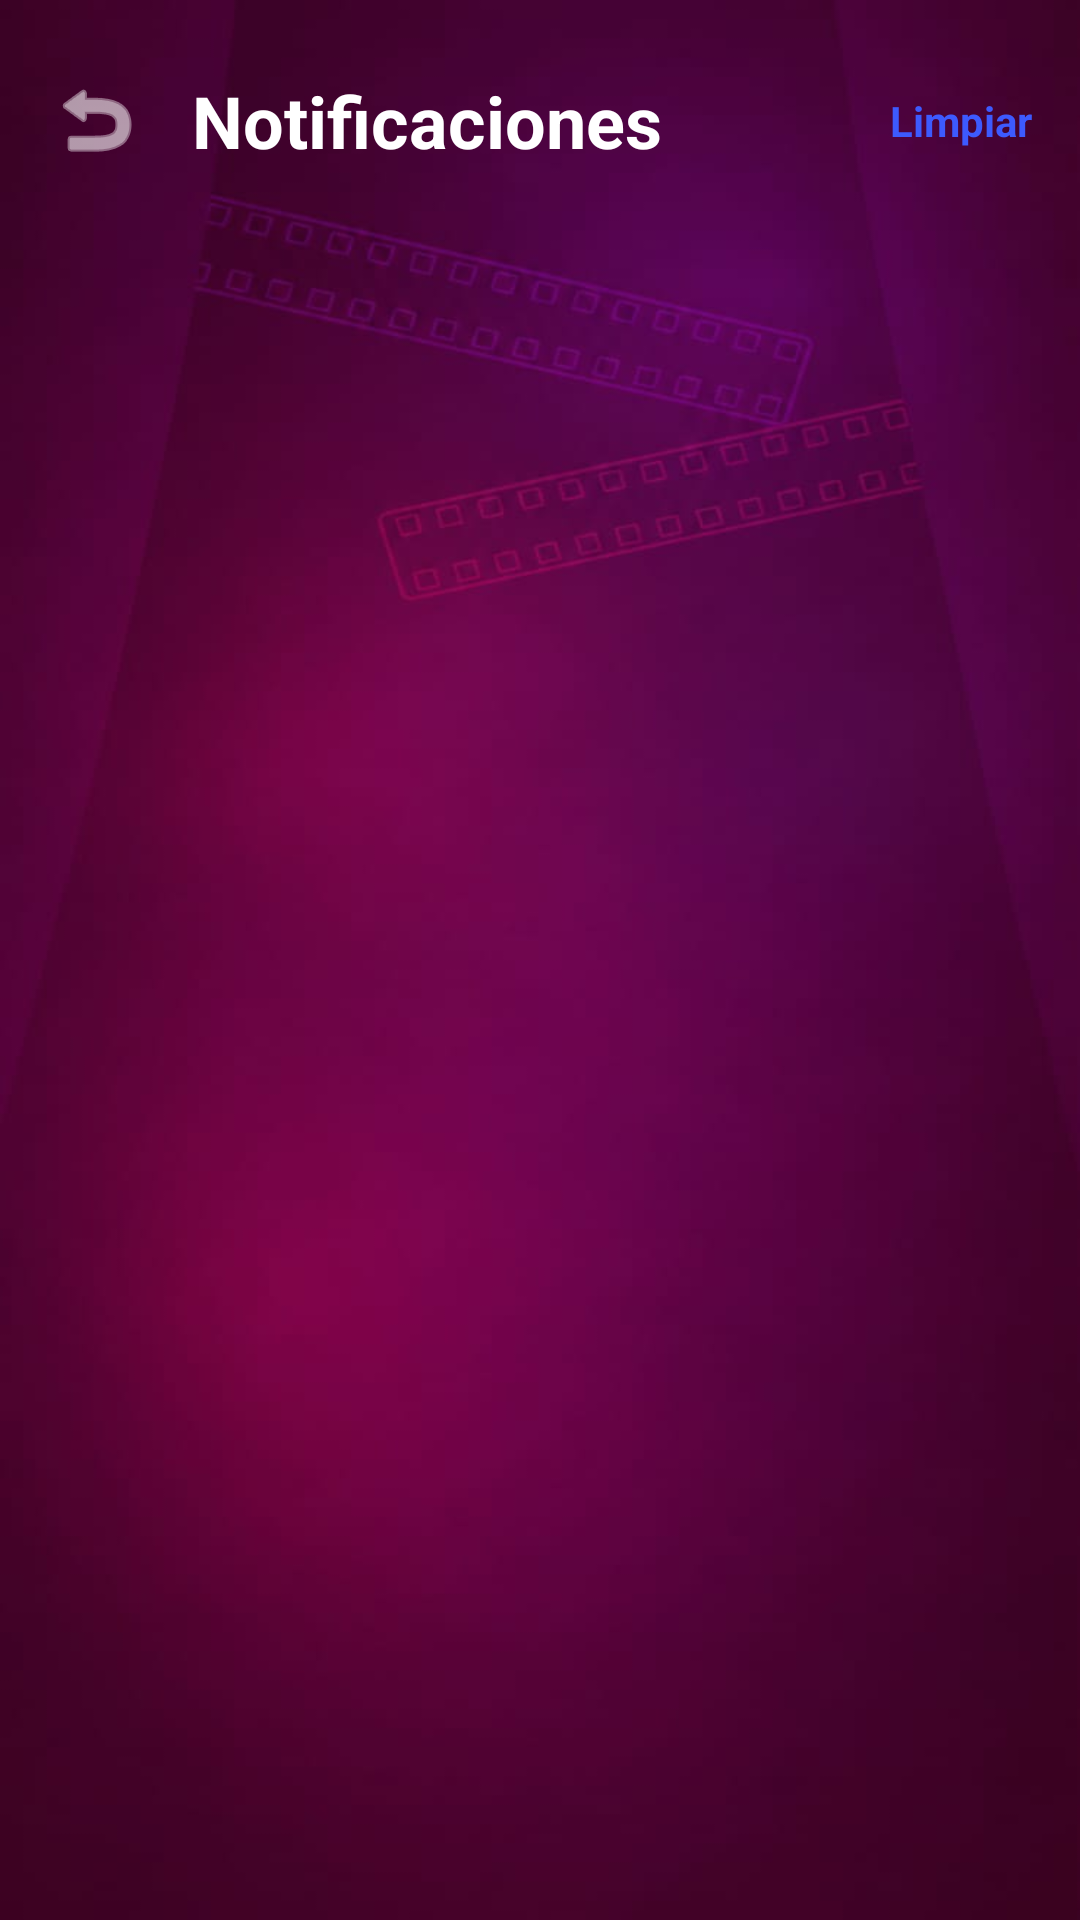

Icons on this 1080w x 1920h Android screen, each with the point to tap as (x,y):
revert: (97,120)
